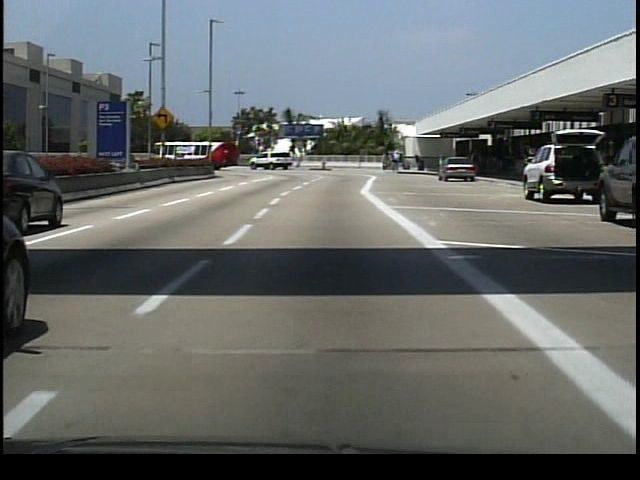person: (468, 149, 483, 178), (391, 149, 401, 176)
